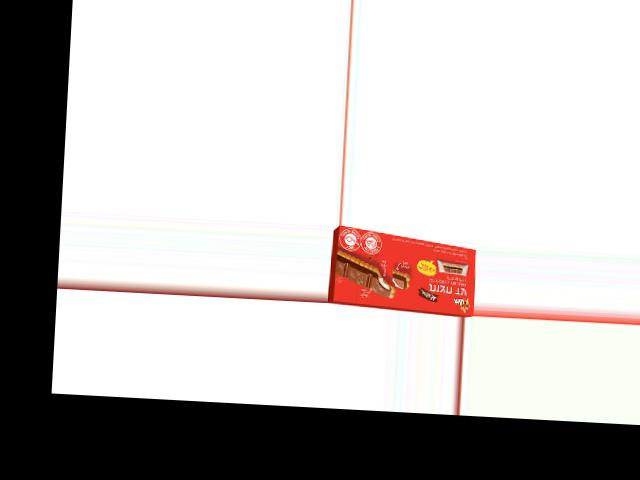chocolate: (329, 233, 478, 311)
